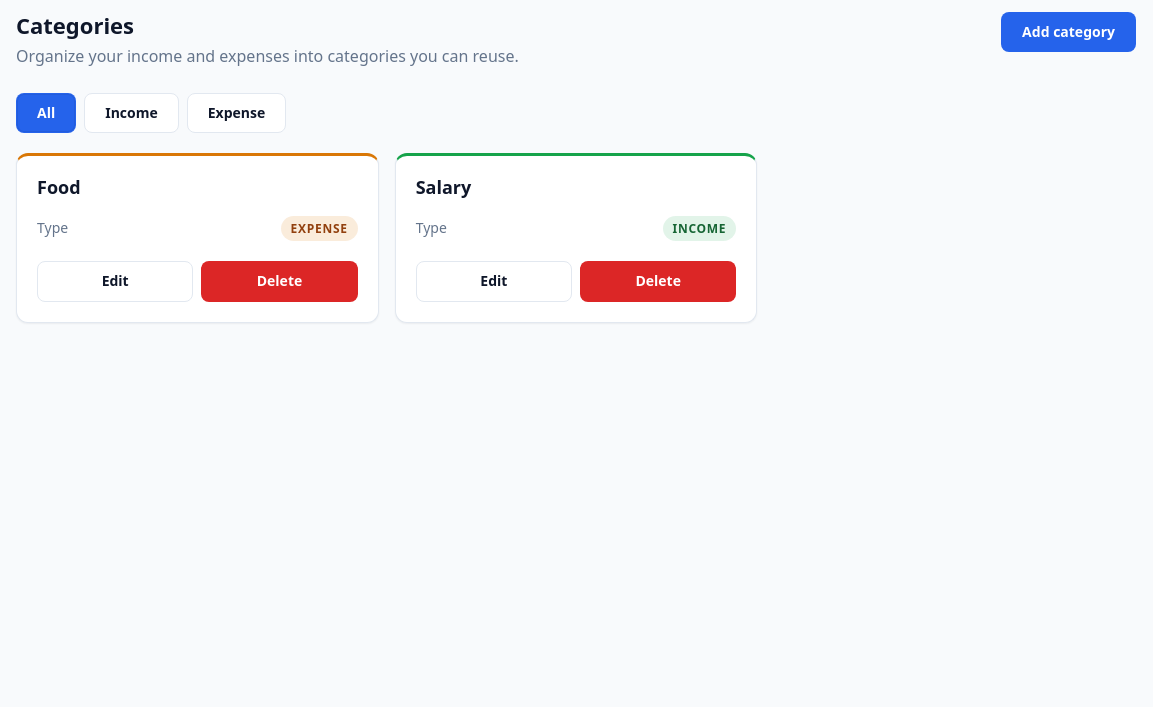
Test: CategoriesPage create › creates a category and refreshes the list
Click the button "Add category" at (1069, 32), box [1001,12,1136,52]
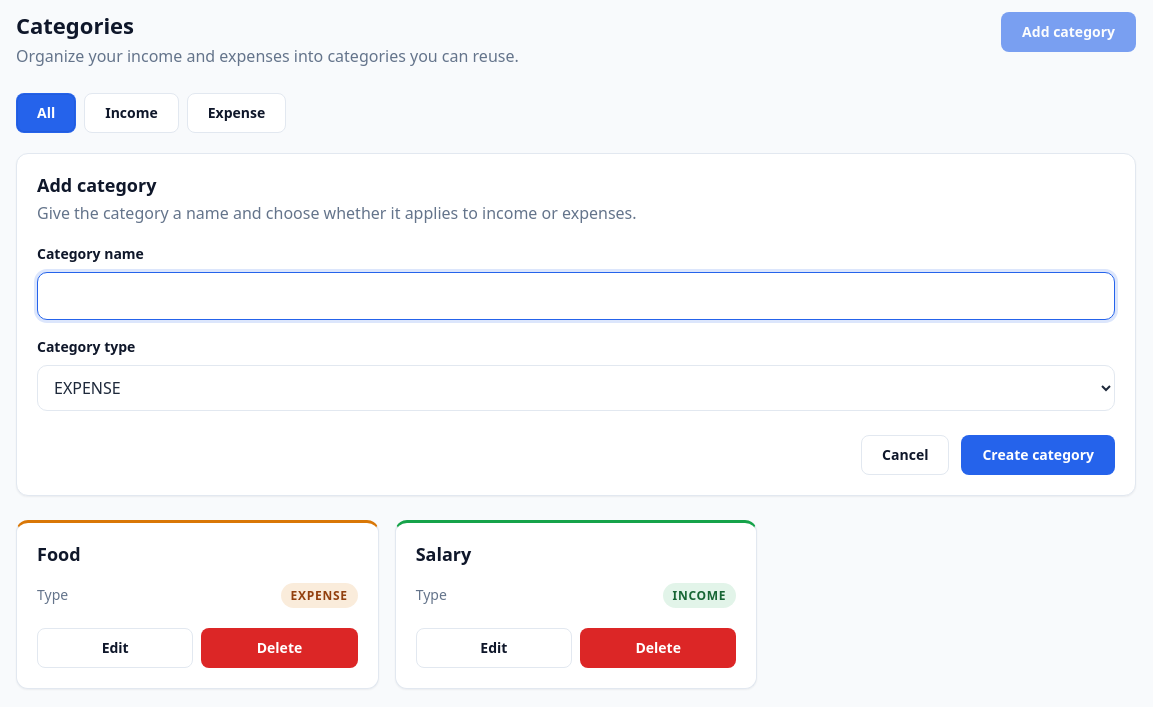
Type "  Freelance  " into the field labelled "Category name" at (576, 296), box [37,272,1115,320]
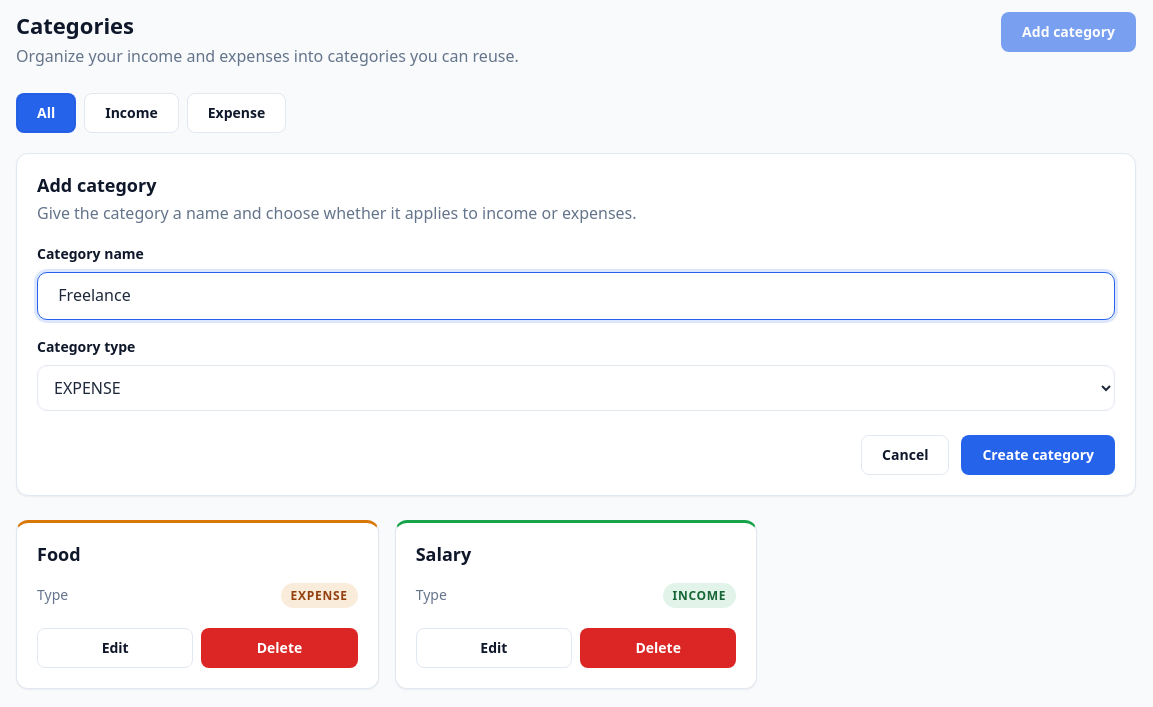
Select "INCOME" in the dropdown labelled "Category type" at (576, 388), box [37,365,1115,411]
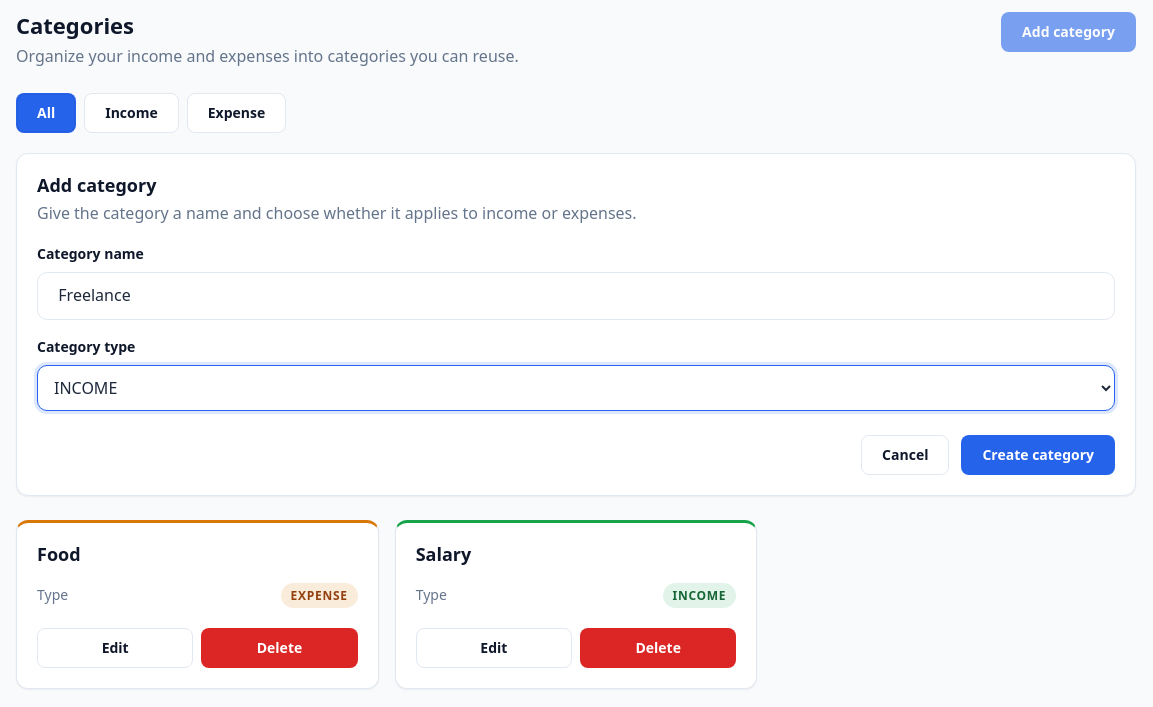
Click the button "Create category" at (1038, 455), box [961,435,1115,475]
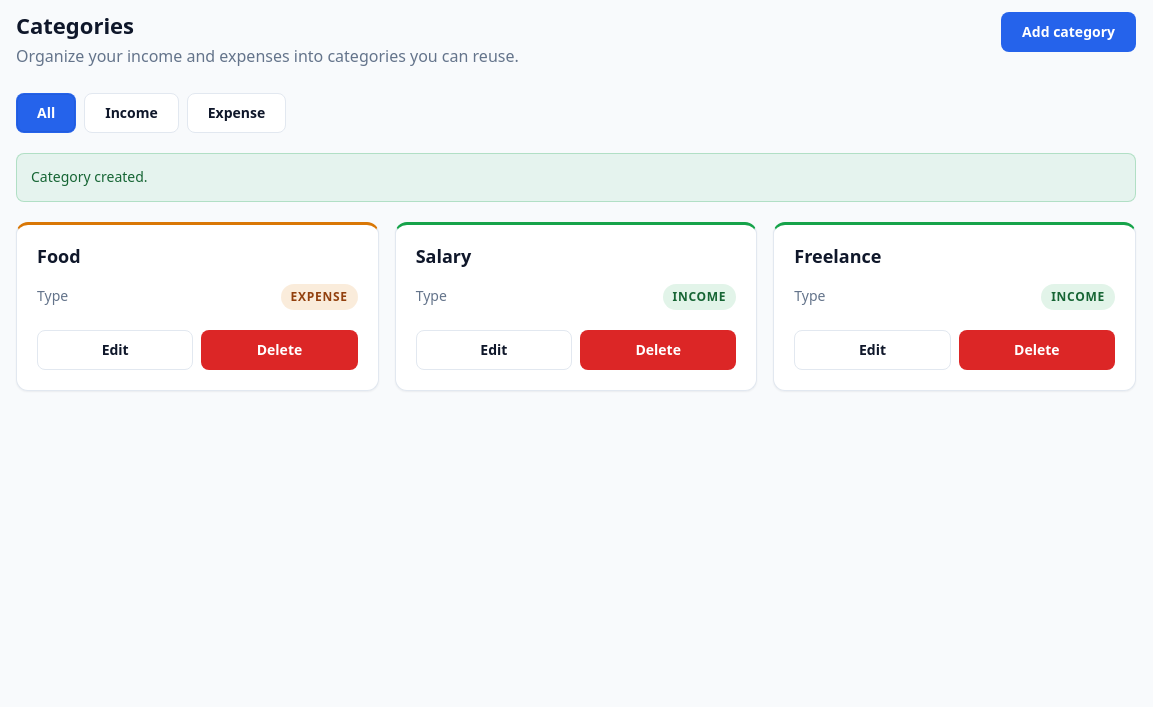
Result: the message reads "Category created." at [31,168,148,186]
Result: the heading "Freelance" is shown at [794,244,881,268]
